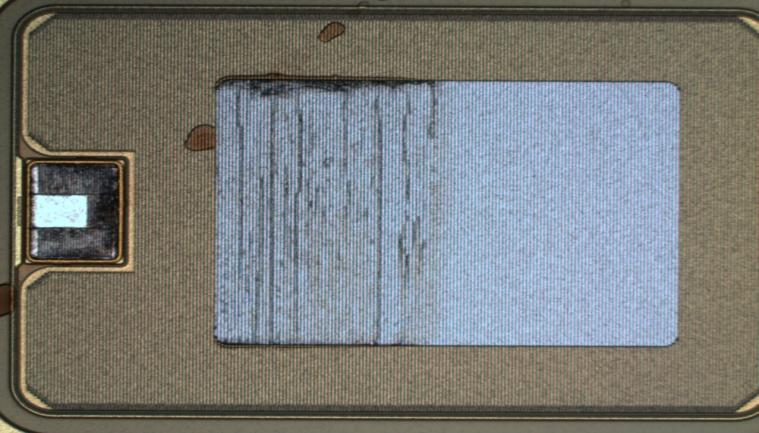SEZ BURNT: (27, 77, 458, 349)
